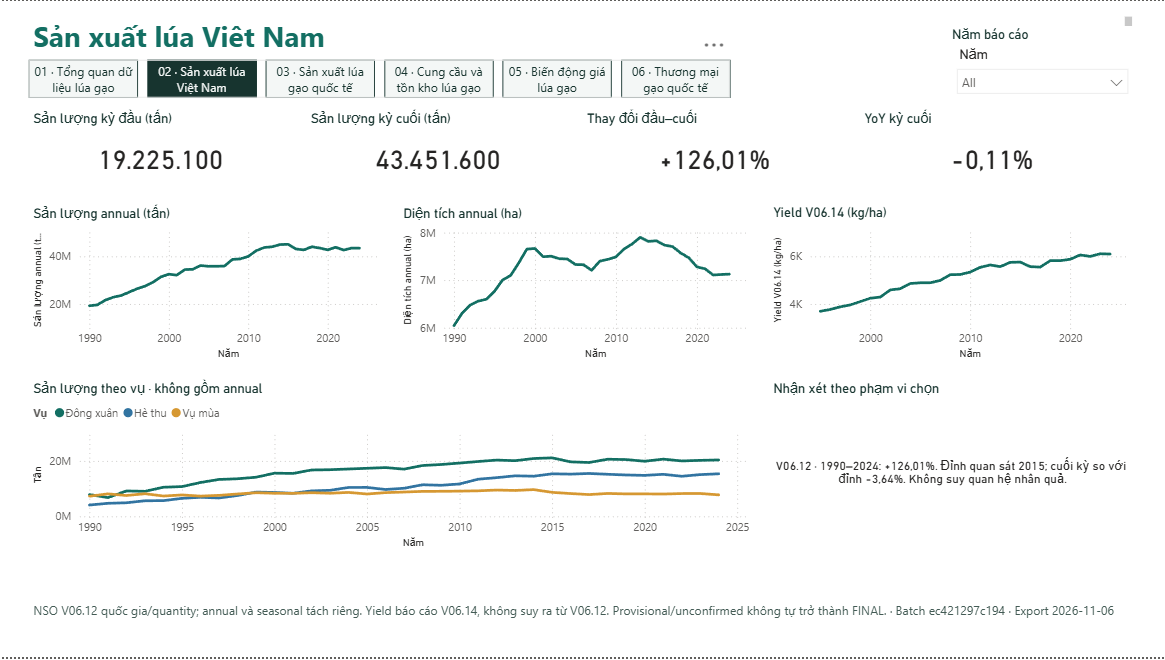

The page's visual inventory and layout, read from the dashboard file:
{"tool":"powerbi","page":{"name":"02 · Sản xuất lúa Việt Nam","canvas":[1280,720],"ordinal":1},"visuals":[{"type":"textbox","box":[32,12,1216,44],"z":1},{"type":"pageNavigator","box":[32,64,770,42],"z":2},{"type":"card","title":"Sản lượng kỳ đầu (tấn)","fields":{"Values":["Overview.First Production Display"]},"box":[32,120,290,90],"z":3},{"type":"card","title":"Sản lượng kỳ cuối (tấn)","fields":{"Values":["Overview.Latest Production Display"]},"box":[336,120,290,90],"z":4},{"type":"card","title":"Thay đổi đầu–cuối","fields":{"Values":["Overview.Production Change Pct Display"]},"box":[640,120,290,90],"z":5},{"type":"card","title":"YoY kỳ cuối","fields":{"Values":["Overview.Latest Production YoY Display"]},"box":[944,120,290,90],"z":6},{"type":"slicer","title":"Năm báo cáo","fields":{"Values":["CalendarYear.Year"]},"box":[1040,28,208,88],"z":7},{"type":"lineChart","title":"Sản lượng annual (tấn)","fields":{"Category":["CalendarYear.Year"],"Y":["Overview.Annual Production"]},"box":[32,224,390,175],"z":8},{"type":"lineChart","title":"Diện tích annual (ha)","fields":{"Category":["CalendarYear.Year"],"Y":["Overview.Annual Area"]},"box":[438,224,390,175],"z":9},{"type":"lineChart","title":"Yield V06.14 (kg/ha)","fields":{"Category":["CalendarYear.Year"],"Y":["Overview.Reported Yield"]},"box":[844,224,404,175],"z":10},{"type":"lineChart","title":"Sản lượng theo vụ · không gồm annual","fields":{"Category":["CalendarYear.Year"],"Series":["NSOSeasonal.season_label_vi"],"Y":["Overview.Seasonal Production"]},"box":[32,416,796,190],"z":11},{"type":"card","title":"Nhận xét theo phạm vi chọn","fields":{"Values":["Overview.NSO Insight"]},"box":[844,416,404,190],"z":12},{"type":"textbox","box":[32,654,1216,56],"z":90}]}

Visuals, with their boxes in screenshot pixels (x1, y1, x2, y2), scaled from the page's 1280x720 canvas onto the 1165x660 screenshot:
textbox: 29 11 1136 51
pageNavigator: 29 59 730 97
"Sản lượng kỳ đầu (tấn)" card: 29 110 293 192
"Sản lượng kỳ cuối (tấn)" card: 306 110 570 192
"Thay đổi đầu–cuối" card: 582 110 846 192
"YoY kỳ cuối" card: 859 110 1123 192
"Năm báo cáo" slicer: 947 26 1136 106
"Sản lượng annual (tấn)" lineChart: 29 205 384 366
"Diện tích annual (ha)" lineChart: 399 205 754 366
"Yield V06.14 (kg/ha)" lineChart: 768 205 1136 366
"Sản lượng theo vụ · không gồm annual" lineChart: 29 381 754 556
"Nhận xét theo phạm vi chọn" card: 768 381 1136 556
textbox: 29 600 1136 651
